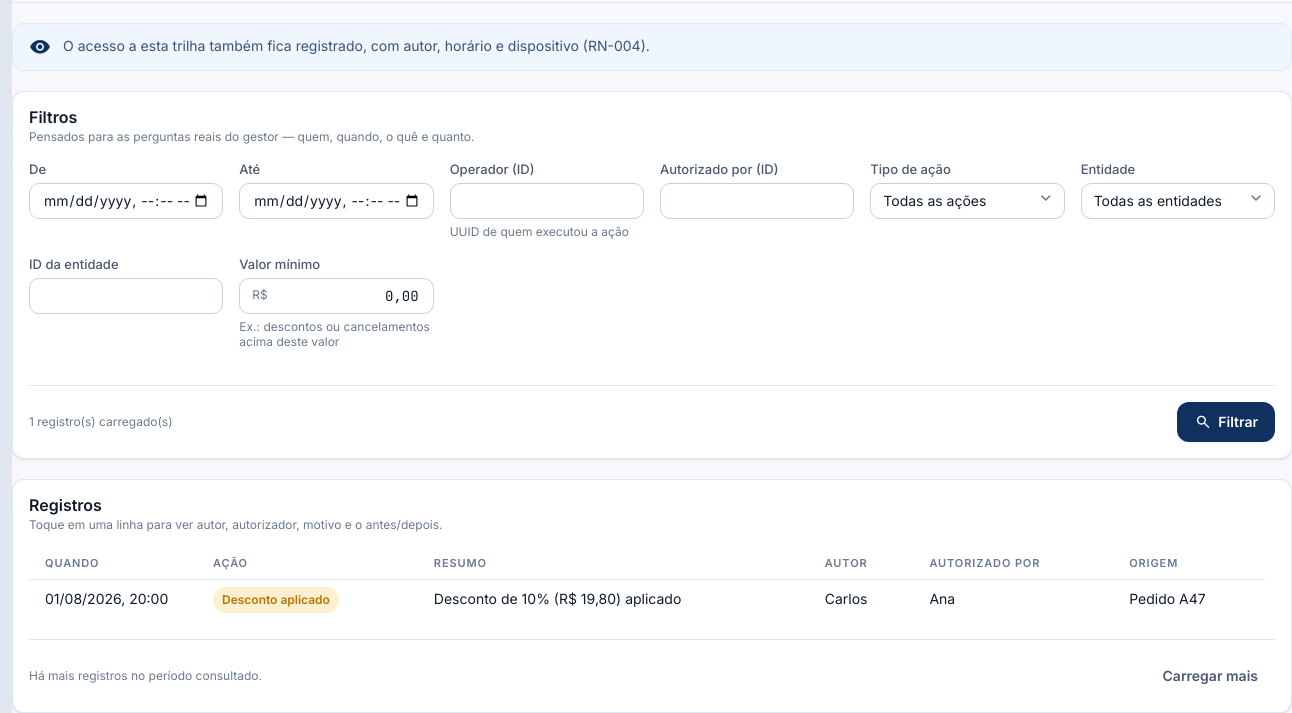
AuditLogPage › mostra "Carregar mais" enquanto hasMore é true, busca a próxima página por cursor e esconde o botão quando acaba
(page scrolled)
Expected: the text "Desconto de 10% (R$ 19,80) aplicado" is shown, [418,579,809,619]
Click the button "Carregar mais": [1210, 676] box [1146,656,1275,696]
(page scrolled)
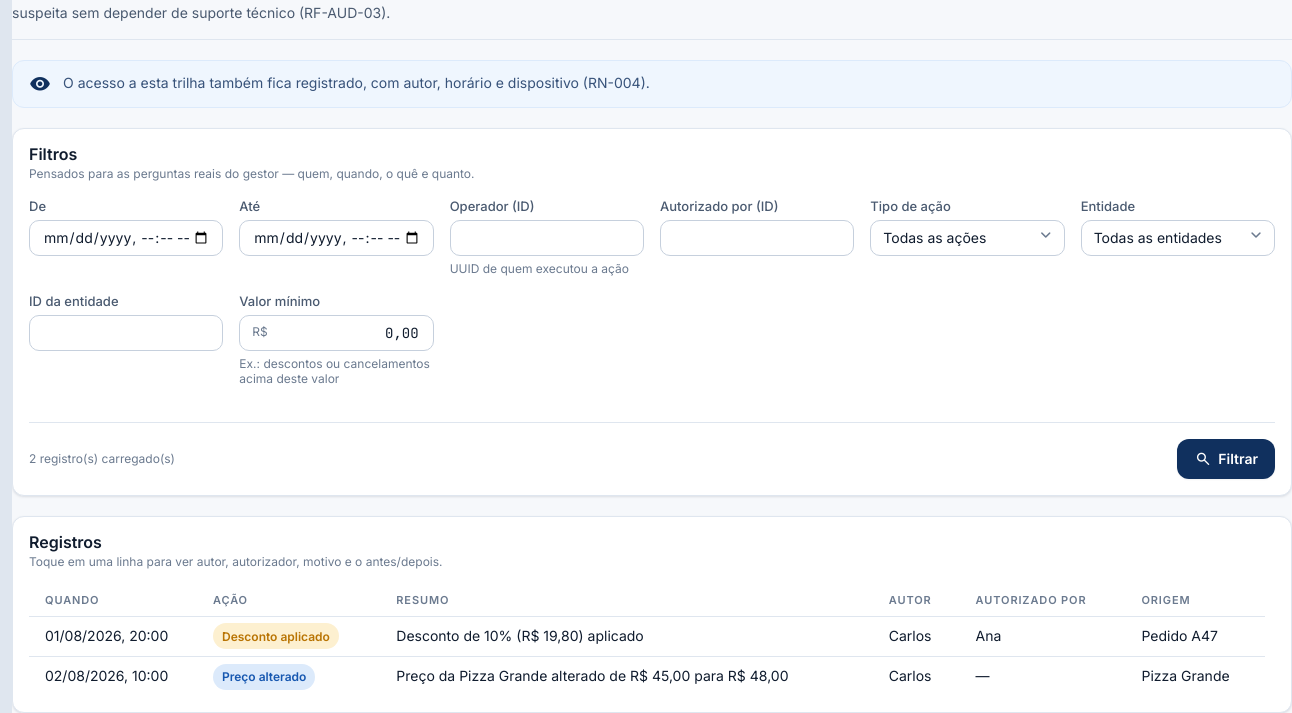
Expected: the text "Desconto de 10% (R$ 19,80) aplicado" is shown, [380,616,873,656]
Expected: the text "Preço da Pizza Grande alterado de R$ 45,00 para R$ 48,00" is shown, [380,656,873,696]
Expected: the button "Carregar mais" is gone
